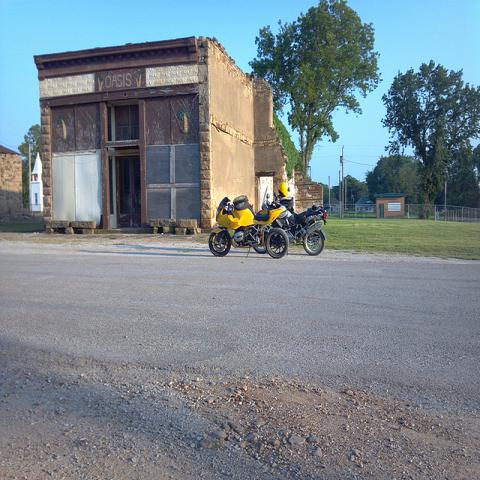motorcycle: (208, 196, 290, 262), (253, 194, 327, 256)
